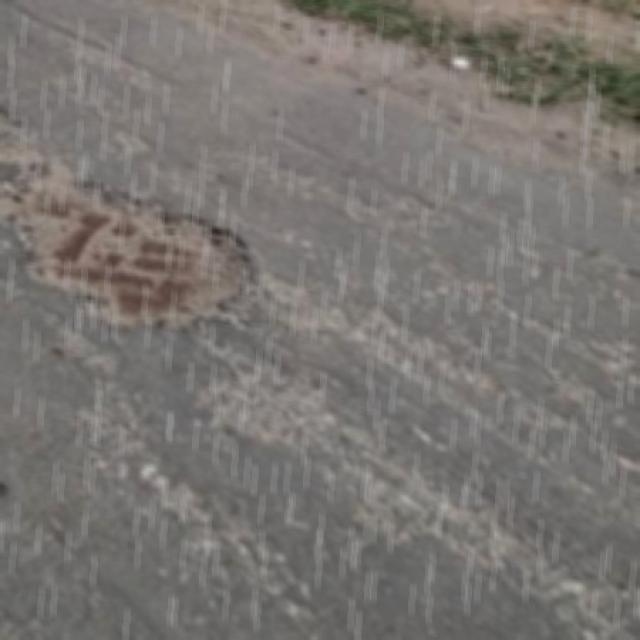road-pothole: (4, 108, 267, 340)
